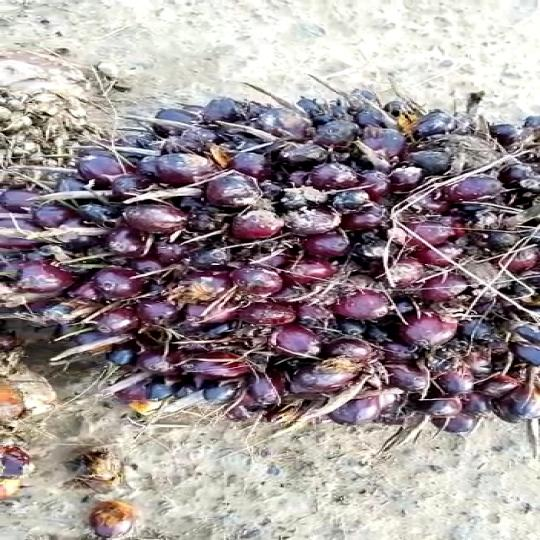mentah: (7, 76, 540, 451)
